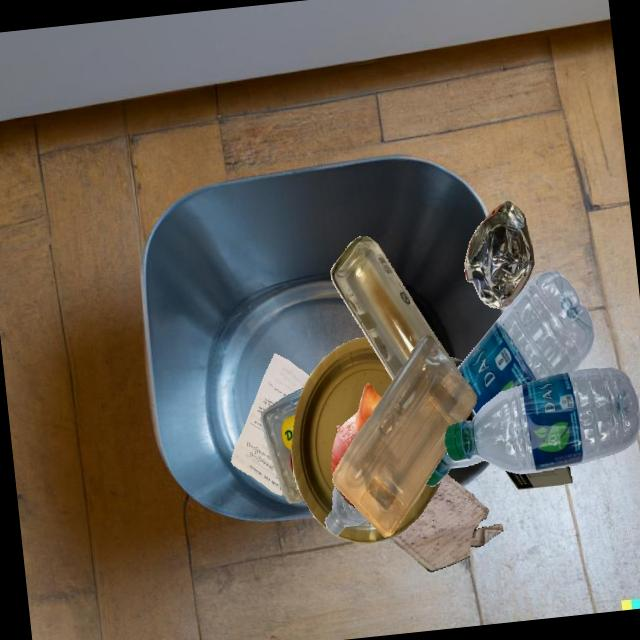biowaste: (331, 382, 381, 476)
cardboard: (504, 466, 572, 489), (450, 357, 463, 368)
glass: (330, 236, 462, 380)
metal: (464, 200, 534, 309)
paper: (290, 336, 392, 532), (230, 353, 309, 495), (389, 473, 503, 571)
plastic: (332, 334, 476, 537), (444, 367, 640, 473), (457, 270, 594, 416), (260, 387, 303, 503), (325, 485, 367, 535)
